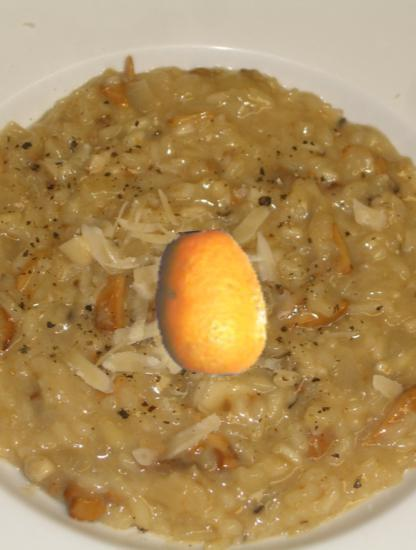Kumquats: (138, 230, 285, 377)
